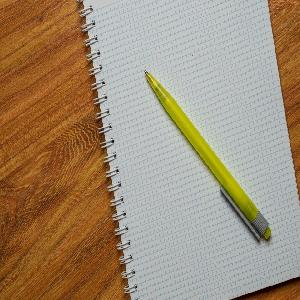pen: (142, 67, 275, 246)
